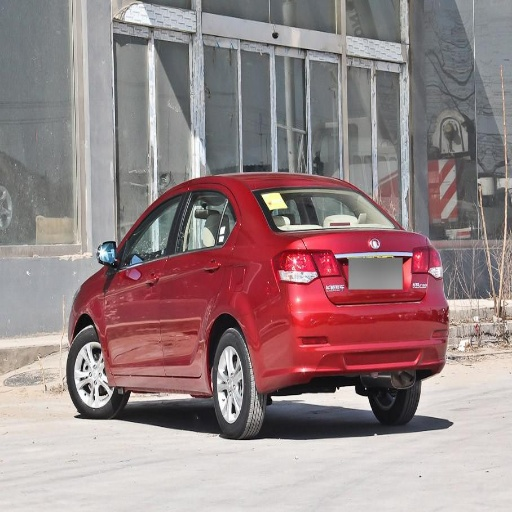back_bumper: (253, 283, 445, 388)
back_glass: (255, 186, 388, 229)
back_left_door: (160, 185, 230, 375)
tailgate: (295, 223, 416, 304)
